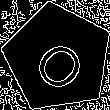O_NE: (25, 25, 91, 91)
